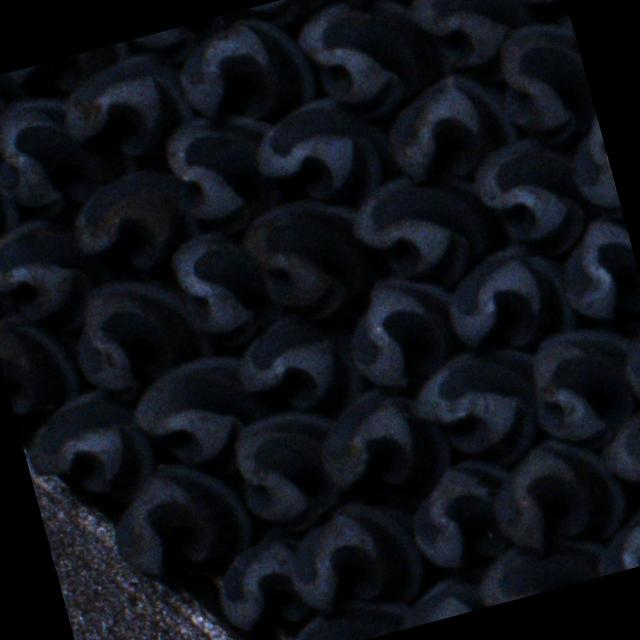tool_b: (342, 152, 516, 304), (238, 181, 399, 336), (406, 334, 559, 482), (0, 73, 146, 228), (99, 445, 256, 588), (276, 488, 434, 630), (57, 260, 216, 400), (478, 422, 630, 564), (289, 0, 449, 130), (17, 380, 162, 521), (468, 128, 611, 270), (308, 376, 457, 510), (246, 85, 398, 216), (157, 98, 296, 240), (372, 63, 522, 194), (170, 7, 320, 134), (63, 157, 210, 286), (225, 399, 359, 539), (224, 297, 368, 427), (55, 46, 202, 172), (121, 348, 262, 477), (436, 234, 580, 360), (336, 264, 469, 397), (517, 315, 640, 457), (396, 448, 530, 576), (164, 218, 284, 356), (486, 12, 601, 156), (0, 210, 107, 352), (203, 521, 321, 640), (465, 520, 612, 608), (547, 212, 640, 333), (0, 306, 93, 424), (402, 0, 542, 76), (594, 398, 640, 522), (584, 490, 640, 576), (0, 135, 23, 247)
